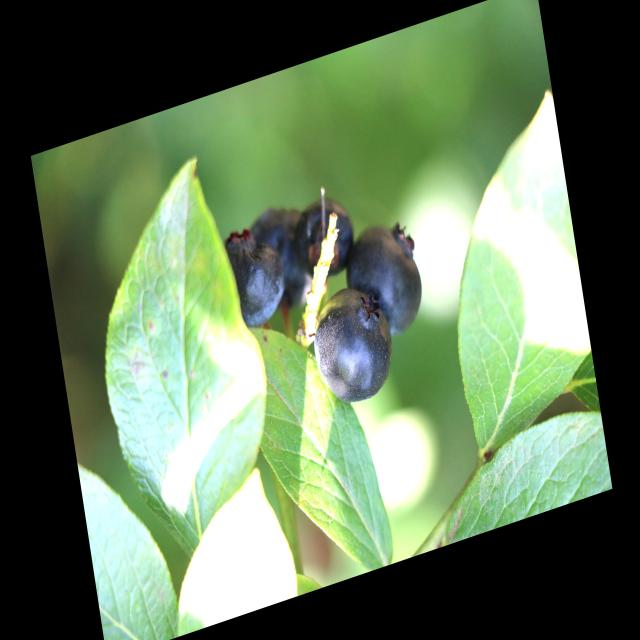blueberry: (304, 276, 402, 414), (344, 211, 430, 344), (212, 217, 290, 337), (250, 189, 320, 320), (292, 186, 363, 293)
